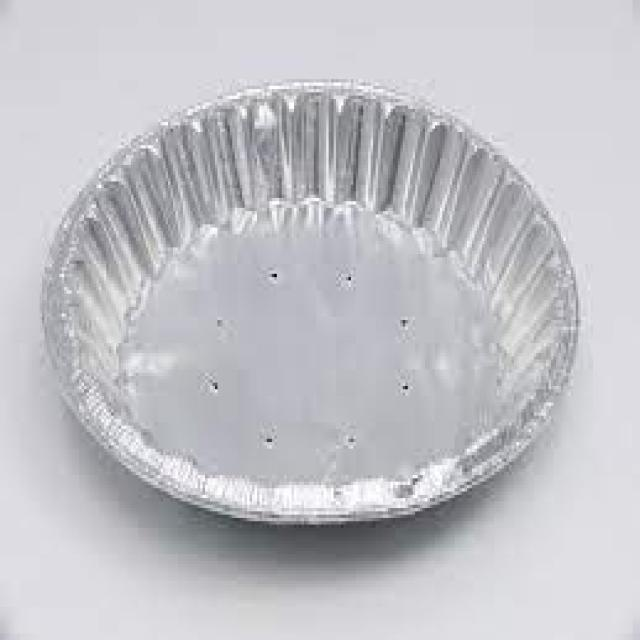kim_loai: (42, 82, 581, 526)
